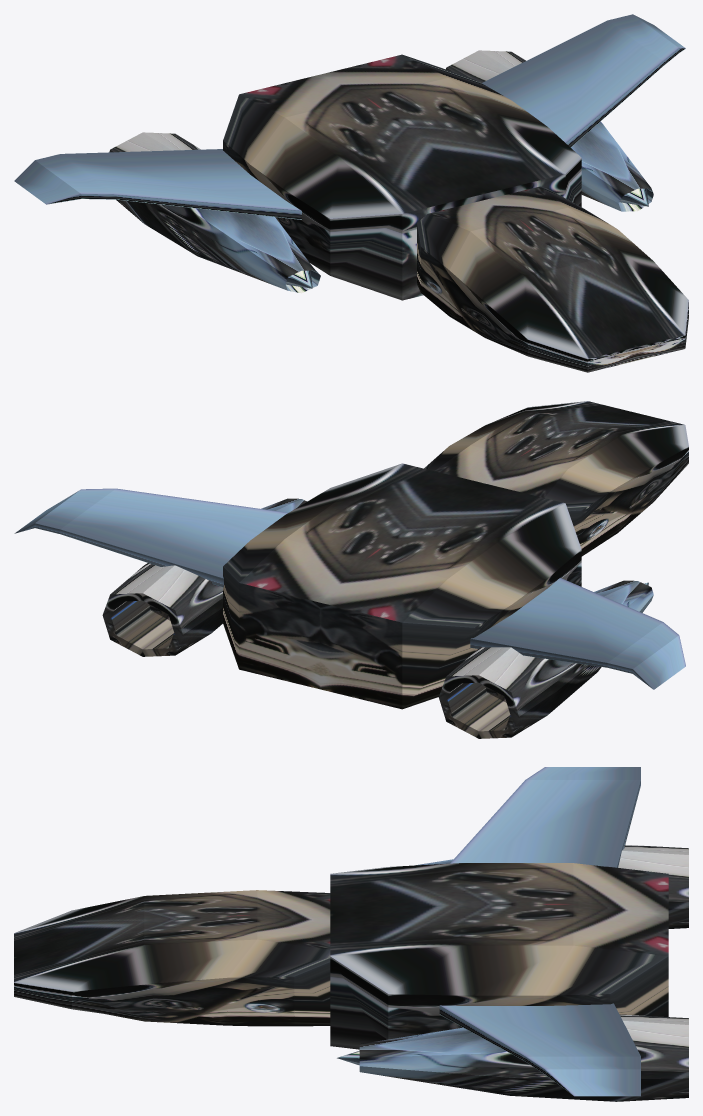
File: m4-ship1.obj
3 views of the same model, one above another, from view 1: azimuth 30°, elevation 25°; view 2: azimuth 150°, elevation 25°; view 3: azimuth 270°, elevation 25° (orthographic). The views are drawn at different scales.
Visible parts, largest first — view 1: M4_Ship_1_Cube.088; view 2: M4_Ship_1_Cube.088; view 3: M4_Ship_1_Cube.088.
Boxes of the visible parts, box(x1,y1,x2,y2) form: M4_Ship_1_Cube.088: box(14, 14, 688, 372); M4_Ship_1_Cube.088: box(14, 401, 688, 738); M4_Ship_1_Cube.088: box(14, 767, 688, 1101).
Bounding box in the file's own units: 27.59 × 4.26 × 24.33.
